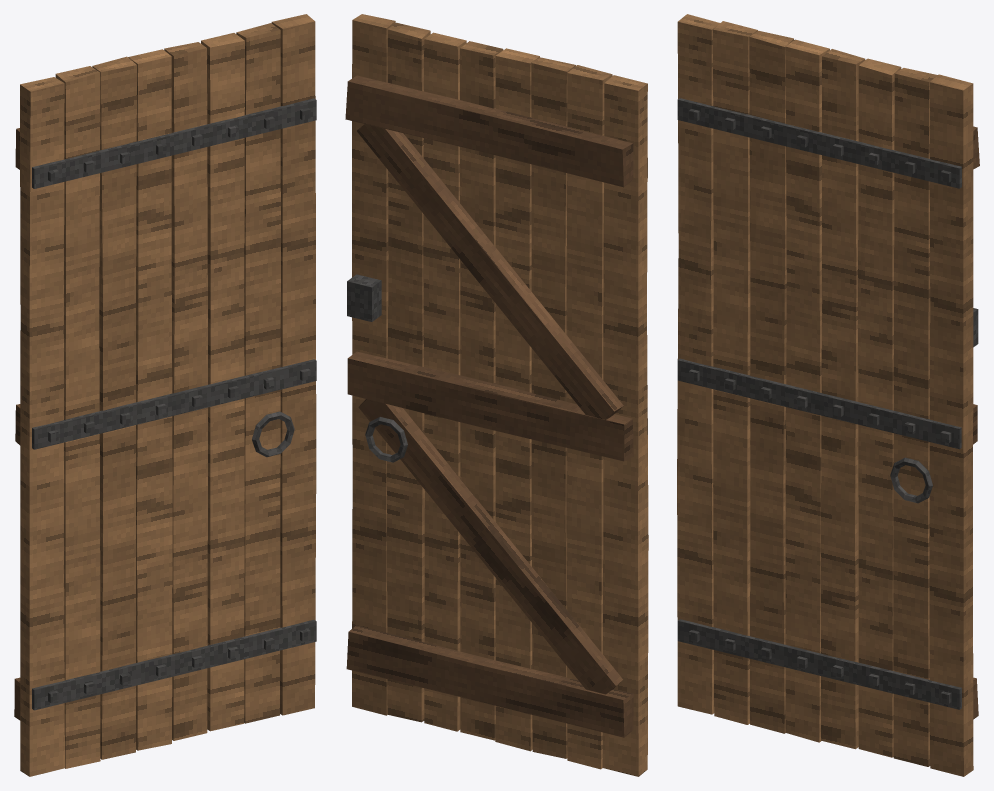
File: portao_grande_esq.glb
The picture shows the model from 3 angles, left to right: view 1: azimuth 30°, elevation 25°; view 2: azimuth 150°, elevation 25°; view 3: azimuth 330°, elevation 25°; orthographic projection.
Parts seen in each view (by area): view 1: portao_grande_esq_madeira, portao_grande_esq_ferro, portao_grande_esq_madeira_escura; view 2: portao_grande_esq_madeira, portao_grande_esq_madeira_escura, portao_grande_esq_ferro; view 3: portao_grande_esq_madeira, portao_grande_esq_ferro, portao_grande_esq_madeira_escura.
Part boxes in pixels (bbox=[...]): portao_grande_esq_madeira: bbox=[20, 14, 316, 776]; portao_grande_esq_ferro: bbox=[32, 98, 316, 710]; portao_grande_esq_madeira_escura: bbox=[14, 128, 20, 720]; portao_grande_esq_madeira: bbox=[352, 14, 648, 776]; portao_grande_esq_madeira_escura: bbox=[345, 75, 633, 737]; portao_grande_esq_ferro: bbox=[347, 158, 647, 462]; portao_grande_esq_madeira: bbox=[677, 14, 973, 776]; portao_grande_esq_ferro: bbox=[677, 98, 978, 709]; portao_grande_esq_madeira_escura: bbox=[973, 126, 979, 719].
Size of the model in its own units: 2.07 by 4.76 by 0.4438.
3 materials, 3 textured.
